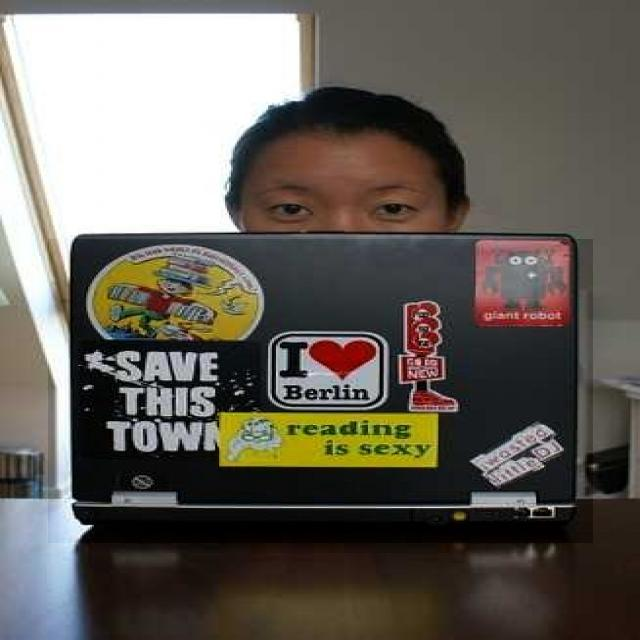-keyboard-: (48, 239, 593, 543)
